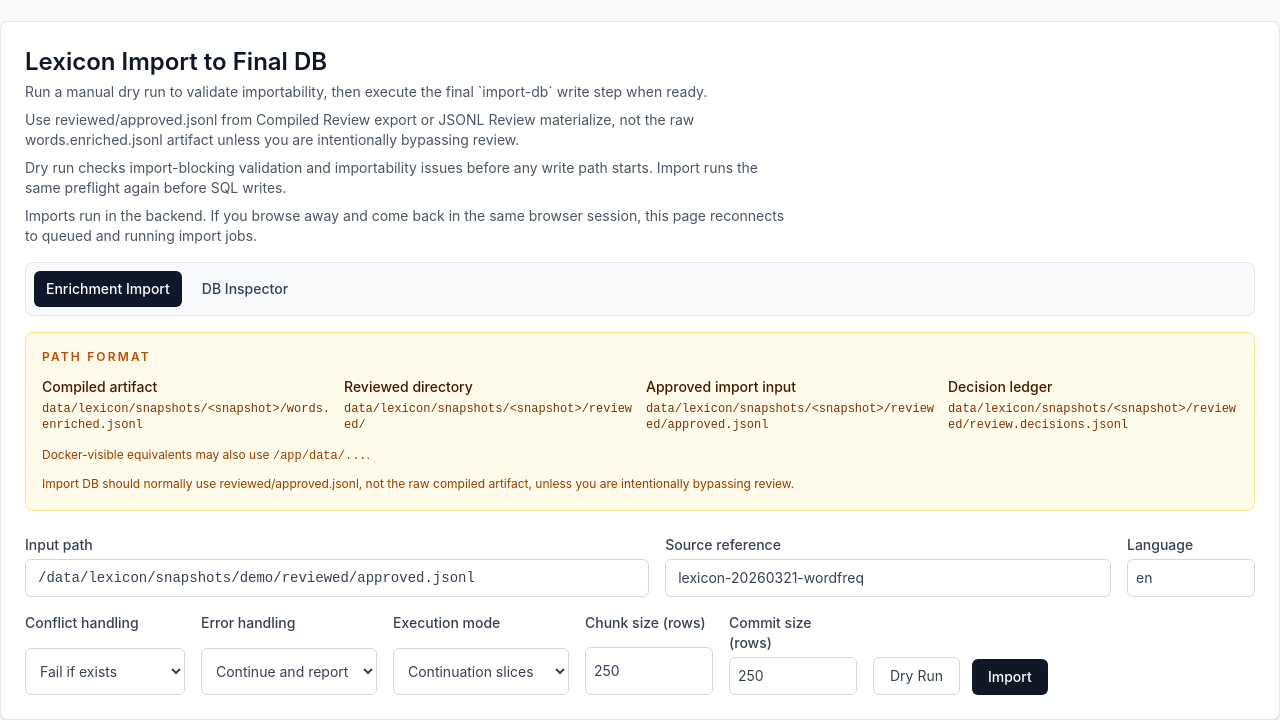
LexiconImportDbPage › renders import dry-run and execute controls
(page scrolled)
Check: the text "Use reviewed/approved.jsonl from Compiled Review export or JSONL Review materialize, not the raw words.enriched.json" is shown, box [25,111,694,148]
Check: the text "Compiled artifact" is shown, box [42,378,157,395]
Click the button with test id "lexicon-import-db-dry-run-button" at point(916, 676), box [873,657,960,695]
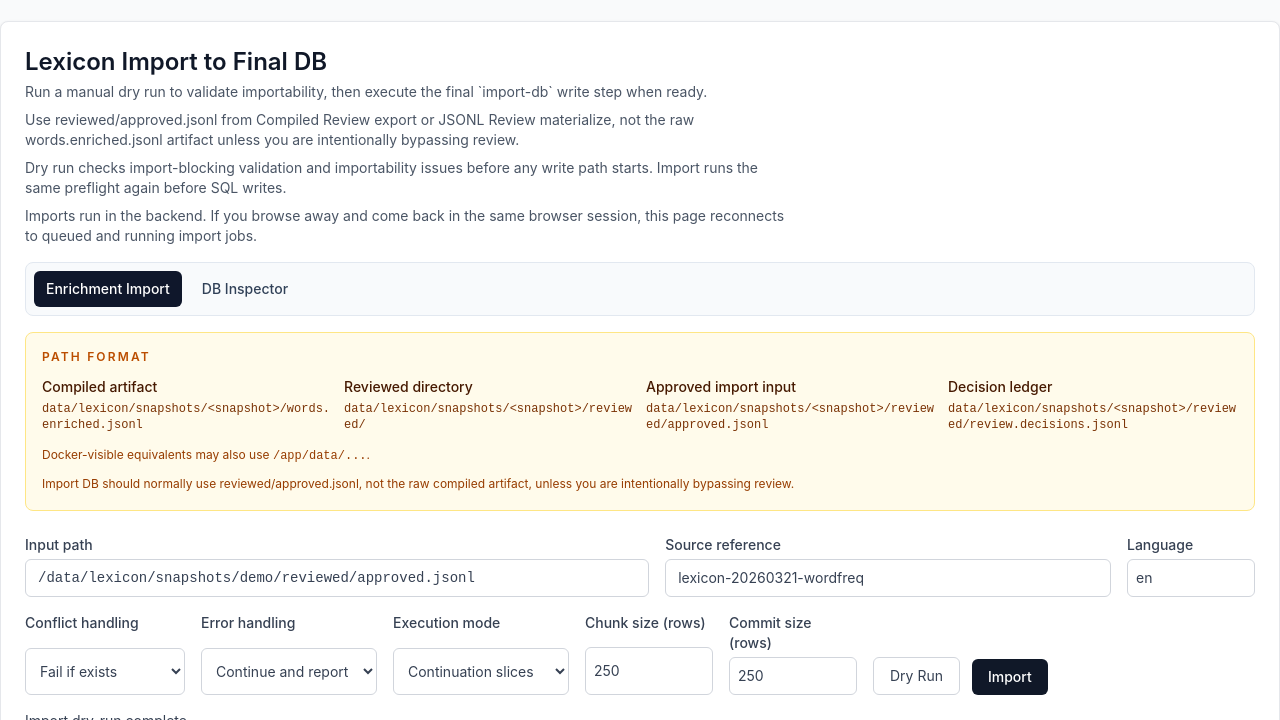
Click the button with test id "lexicon-import-db-run-button" at point(1010, 677), box [972,659,1048,695]
(page scrolled)
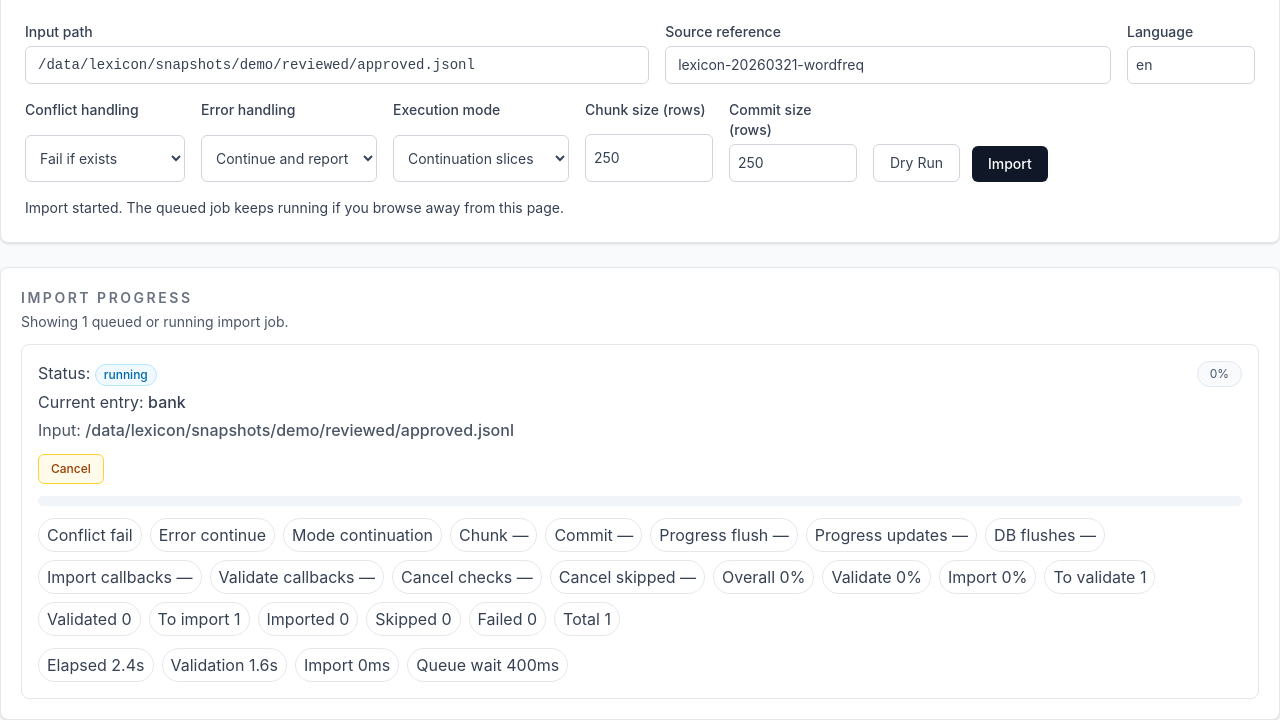
Check: the element with test id "lexicon-import-db-progress" shows "Current entry: bank"
Check: the element with test id "lexicon-import-db-progress" shows "Elapsed", box [47,655,107,675]
Check: the element with test id "lexicon-import-db-progress" shows "Queue wait", box [416,655,502,675]
